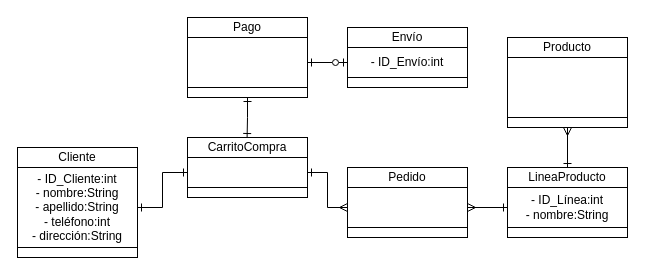
Some shapes in this 645 by 275 pixel diagram are drawn without their labels. Each missing label, with the centre of its shape:
- ID_Carrito:int: pixel 247 172
- ID_Pago:int - monto:float - método:String: pixel 247 62
- ID_Pedido:int - cantidad:int: pixel 407 207
- nroProducto:int - nombre:String - precio:int: pixel 567 87
